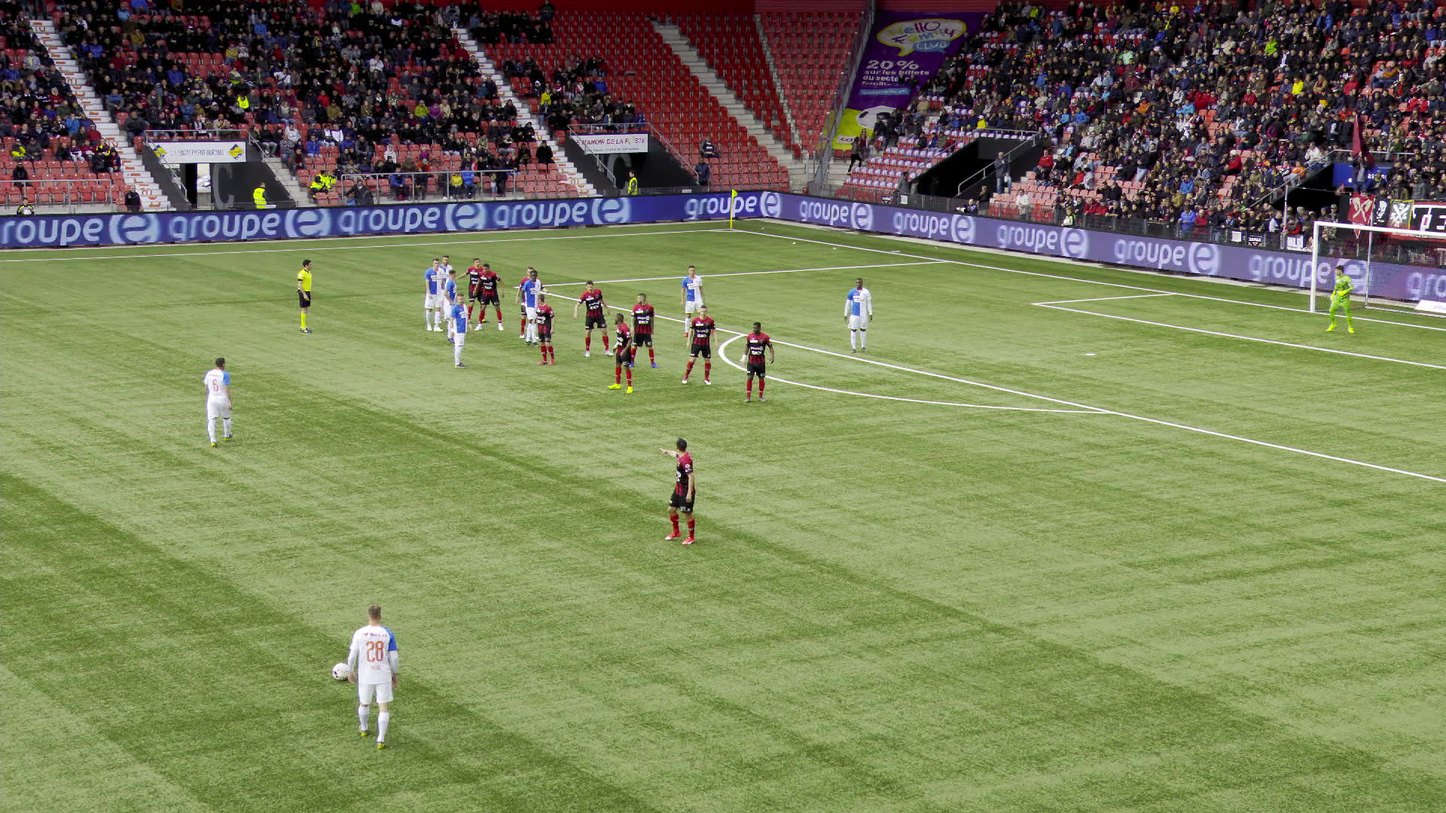ball: (333, 663, 348, 679)
player: (344, 601, 398, 748), (659, 437, 694, 545), (572, 280, 613, 356), (201, 356, 233, 446), (738, 321, 773, 403), (682, 306, 717, 386), (448, 257, 487, 322), (843, 278, 872, 353), (472, 263, 503, 330), (628, 293, 656, 367), (1327, 265, 1356, 333), (520, 270, 545, 346), (516, 267, 542, 340), (610, 313, 634, 391), (529, 294, 554, 367), (679, 265, 704, 336), (444, 270, 466, 343), (423, 258, 444, 331), (451, 293, 469, 369), (437, 255, 455, 324)
referee: (297, 257, 313, 333)
